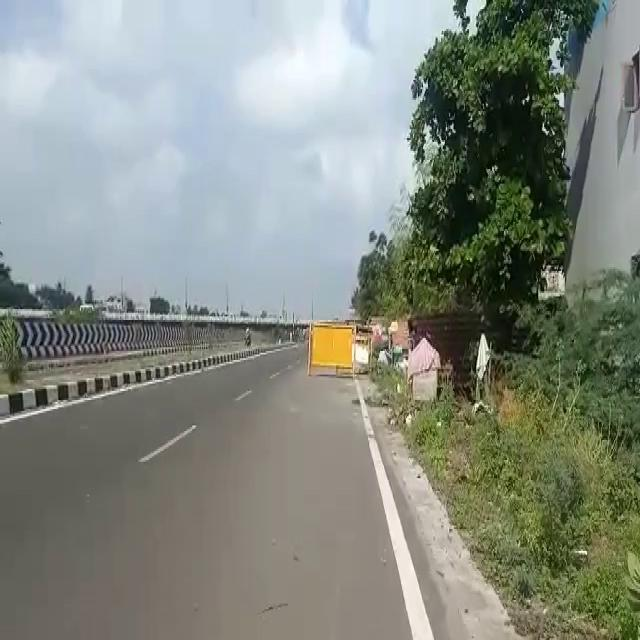fallen_object: (280, 307, 368, 400)
